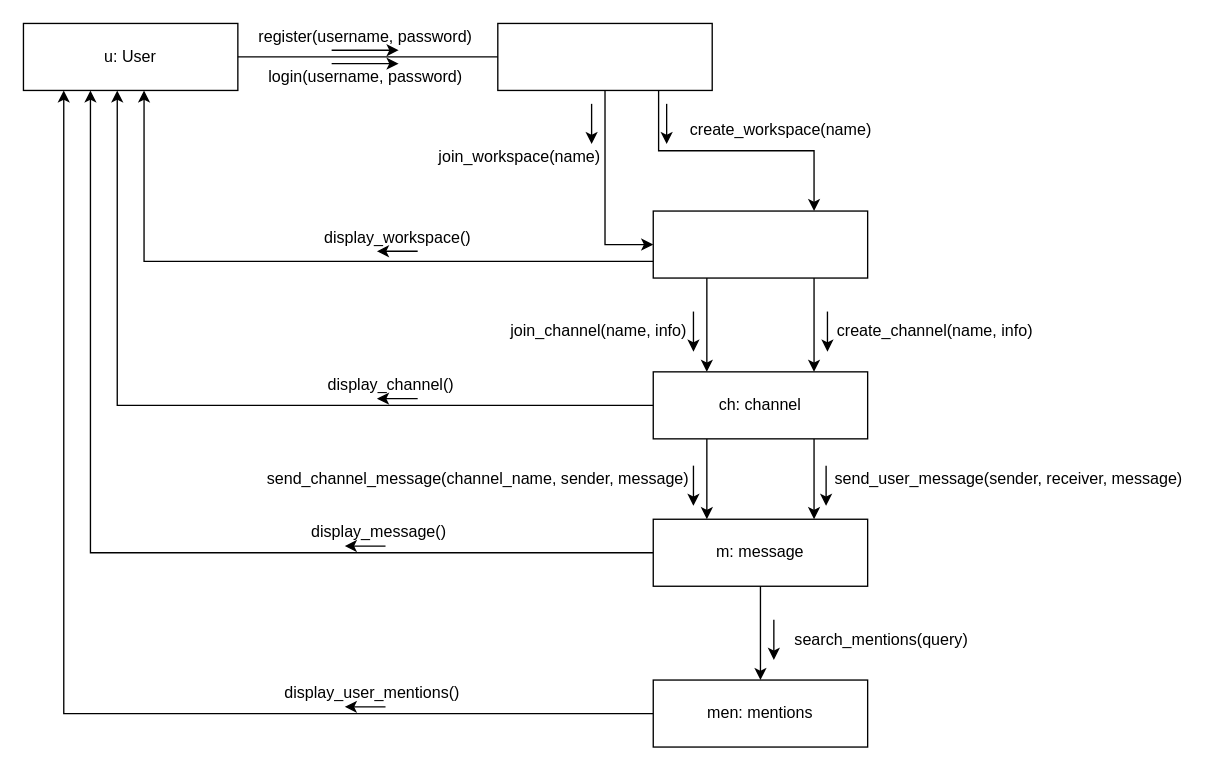
The diagram is 1213 pixels wide and 771 high, and some of its shapes have lost their labels. The shapes that lost their labels are listed below. From the top down, each one's centre as x and y in pixels, then its label:
point 604,56: a : Authenticate
point 760,244: work: workspace
